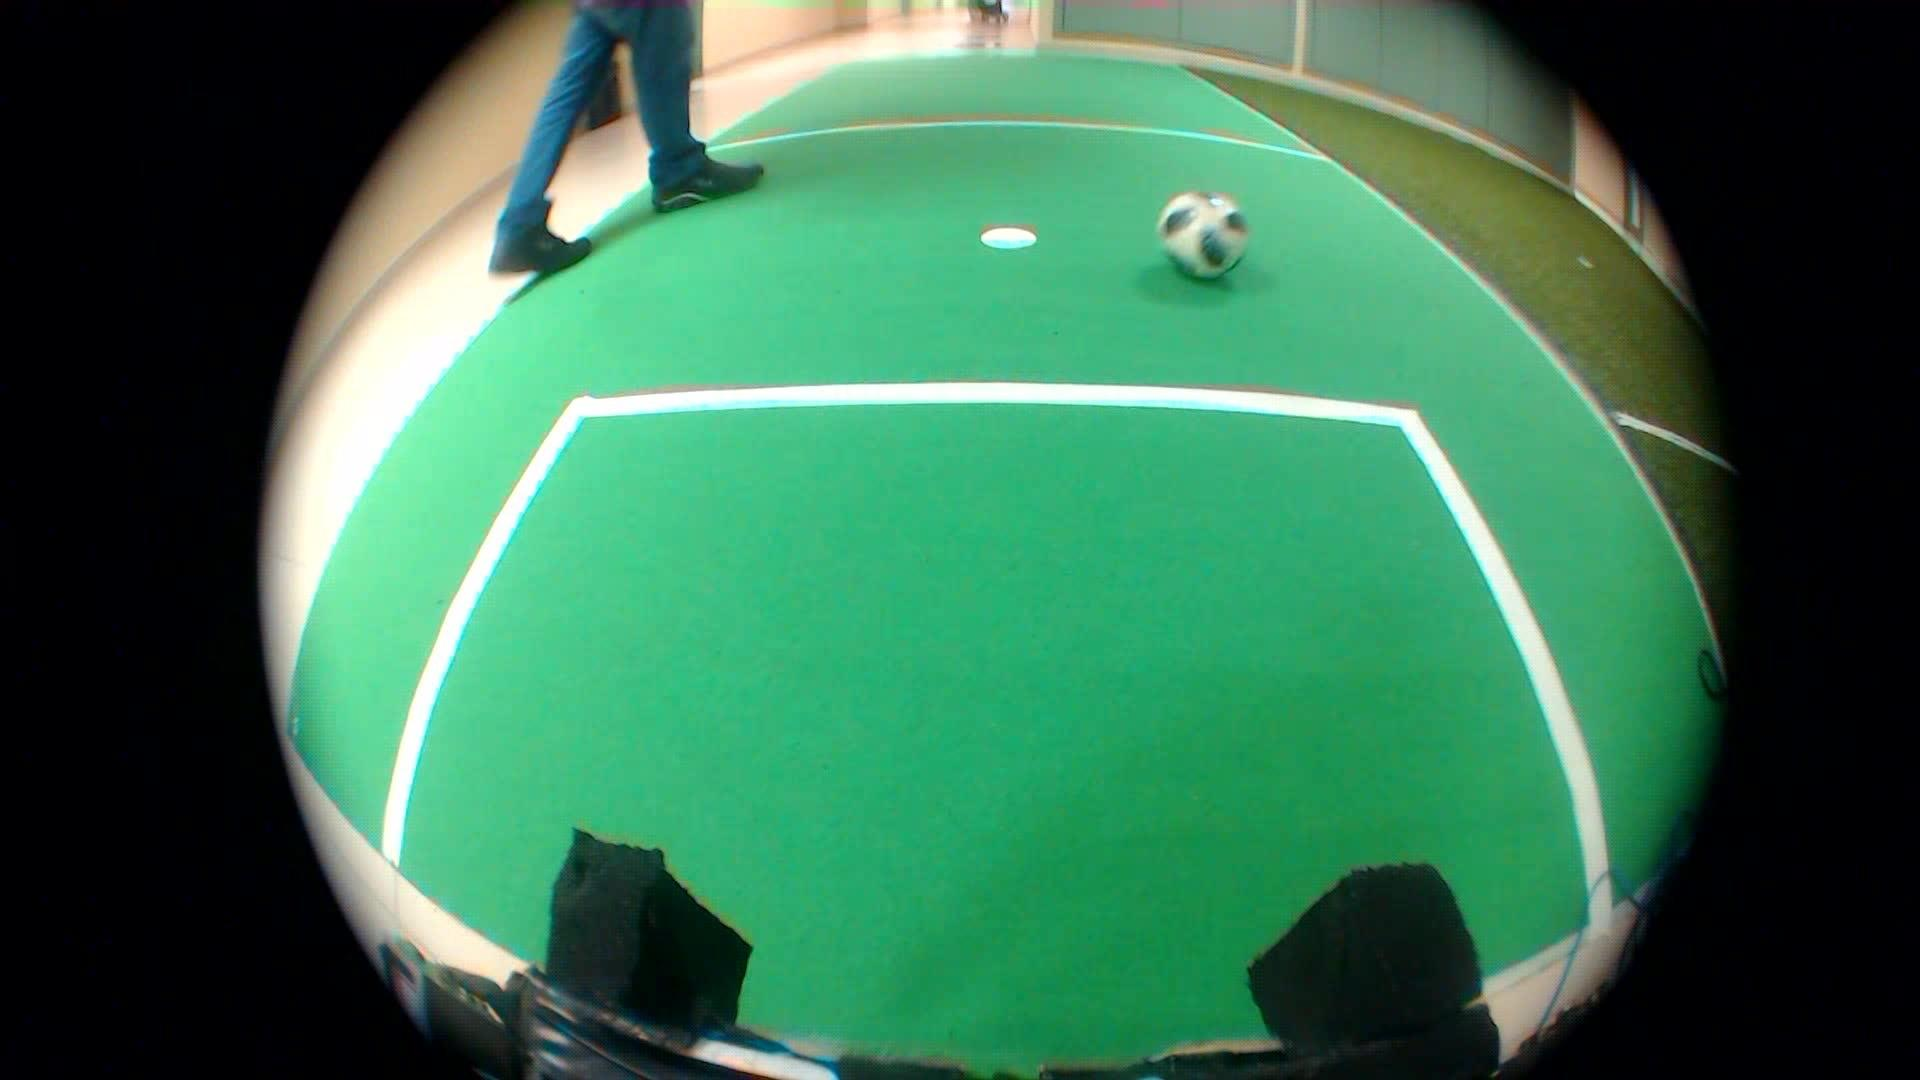ball: (1142, 167, 1255, 287)
